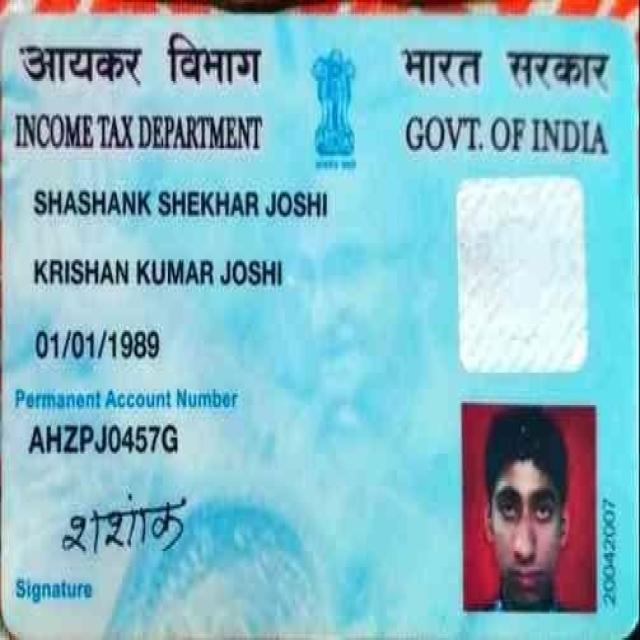pan_card: (0, 20, 637, 632)
